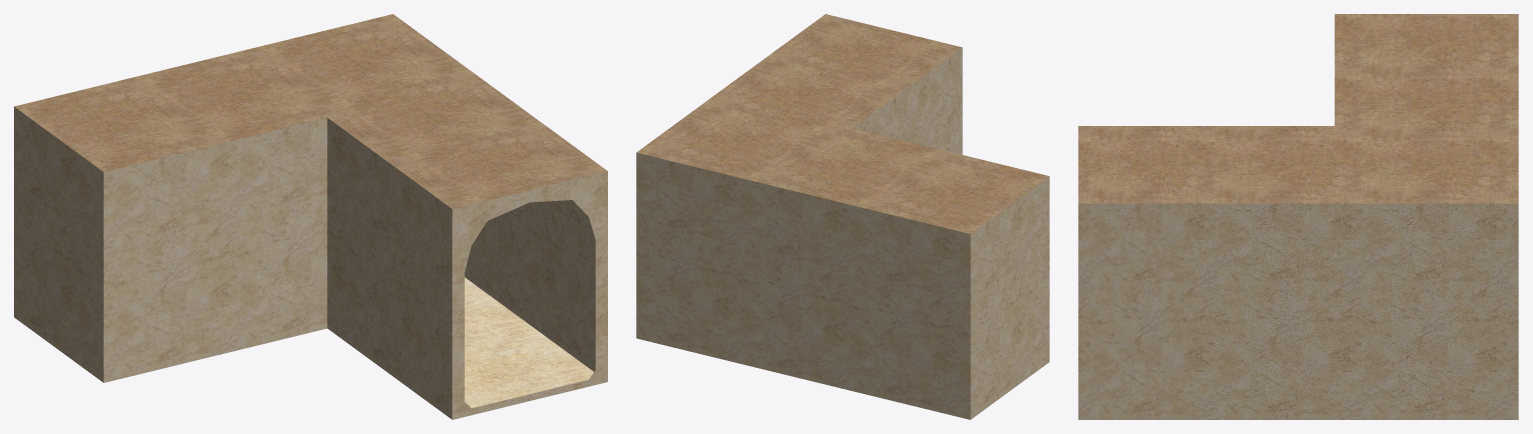
The model's file is thm_tato_block_bldg_64x16_s01_r1_spawna_mesh_spawna.fbx.
3 renders of one model, left to right at view 1: azimuth 30°, elevation 25°; view 2: azimuth 150°, elevation 25°; view 3: azimuth 270°, elevation 25°, orthographic. The views are drawn at different scales.
Visible parts, largest first — view 1: mesh_node; view 2: mesh_node; view 3: mesh_node.
Boxes of the visible parts, x1=… form: mesh_node: x1=14, y1=14, x2=607, y2=419; mesh_node: x1=636, y1=14, x2=1049, y2=419; mesh_node: x1=1078, y1=14, x2=1518, y2=419.
Bounding box in the file's own units: 6.11 × 3.25 × 6.
